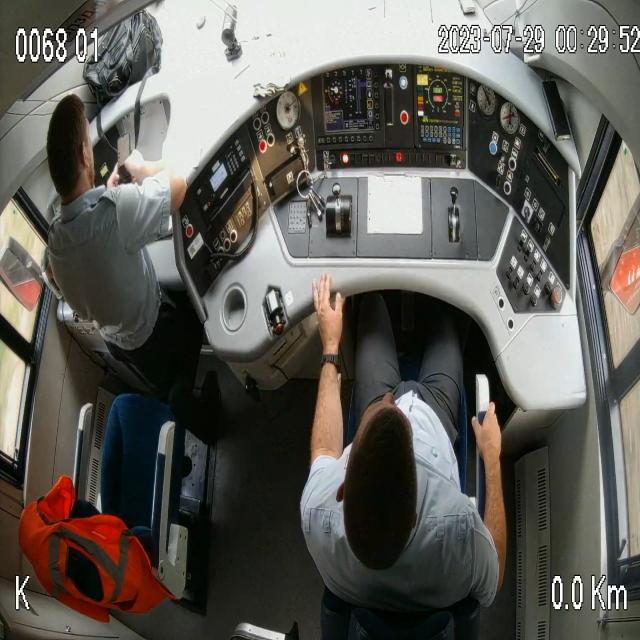smartphone: (115, 130, 136, 190)
